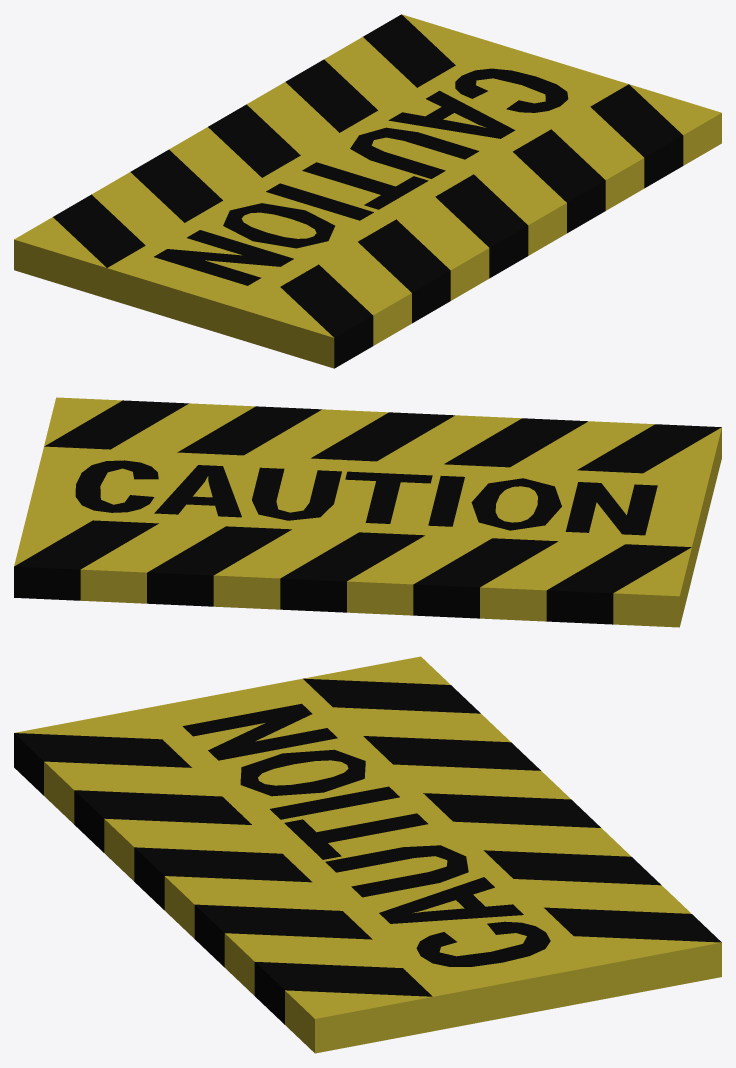
Rendered from Caution Sign.fbx.
3 views of the same model, one above another, from view 1: azimuth 30°, elevation 25°; view 2: azimuth 150°, elevation 25°; view 3: azimuth 270°, elevation 25° (orthographic). The views are drawn at different scales.
Parts seen in each view (by area): view 1: Caution Sign; view 2: Caution Sign; view 3: Caution Sign.
Part boxes in pixels (box(x1,y1,x2,y2)): Caution Sign: box(14, 14, 721, 368); Caution Sign: box(14, 397, 721, 627); Caution Sign: box(14, 656, 721, 1053).
Size of the model in its own units: 149 by 123 by 6.69.
